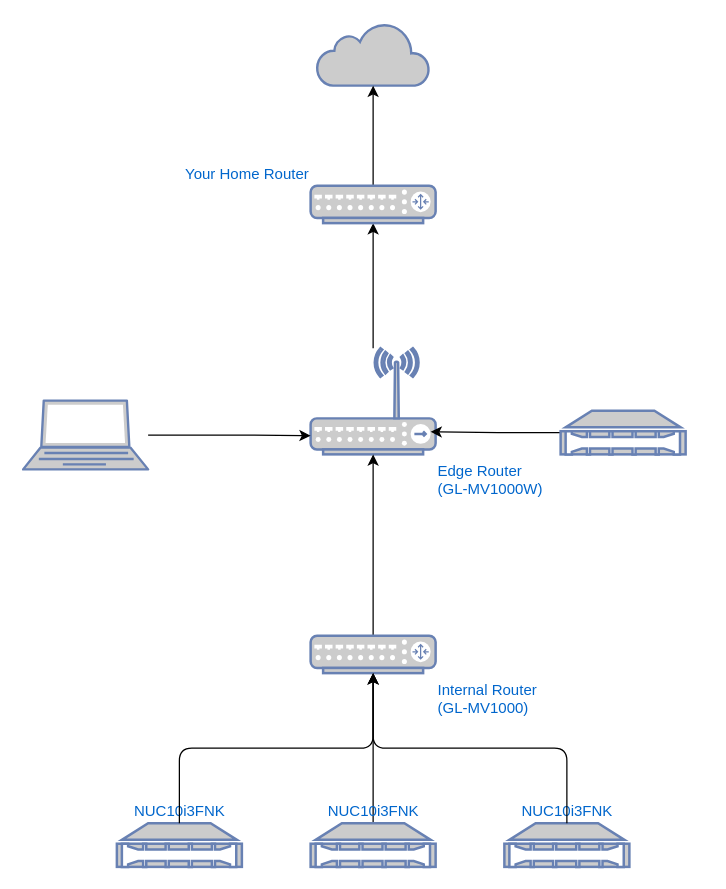
Image size: 726x889. Some labels were removed from this diagram. Each missing label, with the box of its shape:
Bastion Host (8GB Pi4B): (559, 409, 686, 455)
Internet: (315, 21, 430, 86)
Your Workstation: (21, 399, 149, 470)
